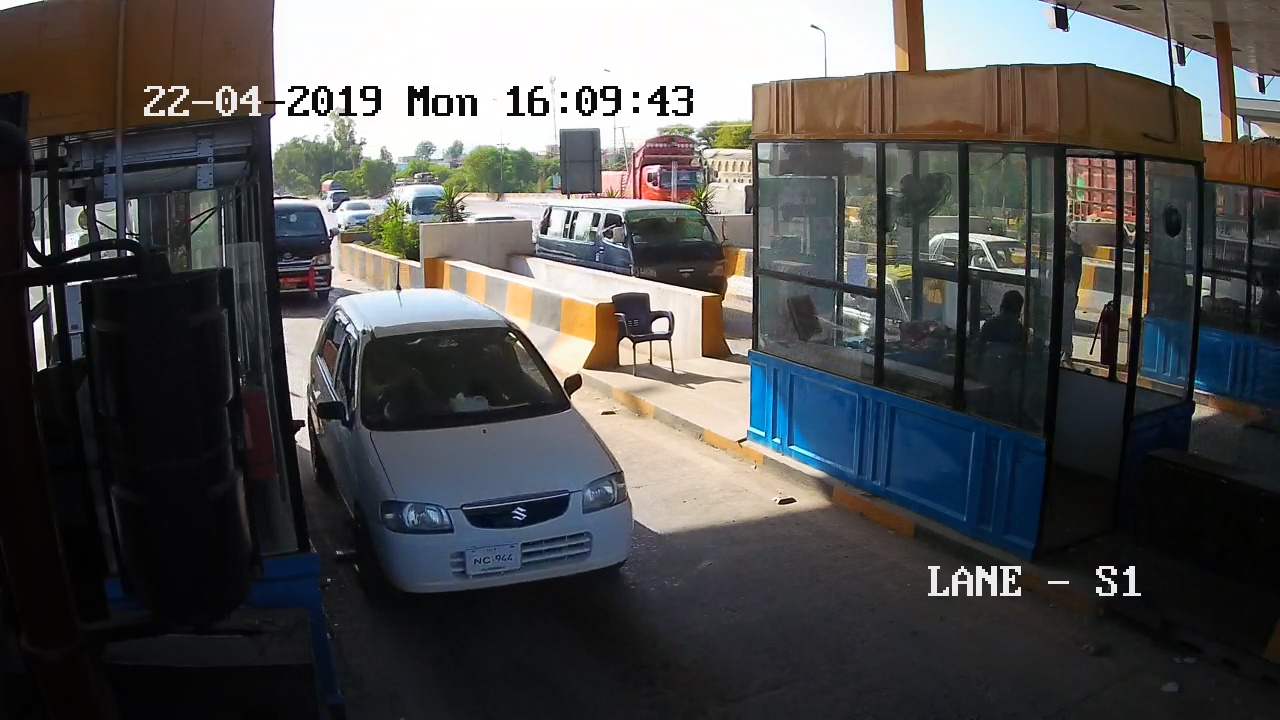Number Plate (Car): (461, 544, 523, 573)
